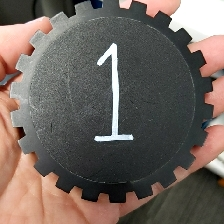gear: (8, 1, 216, 204)
